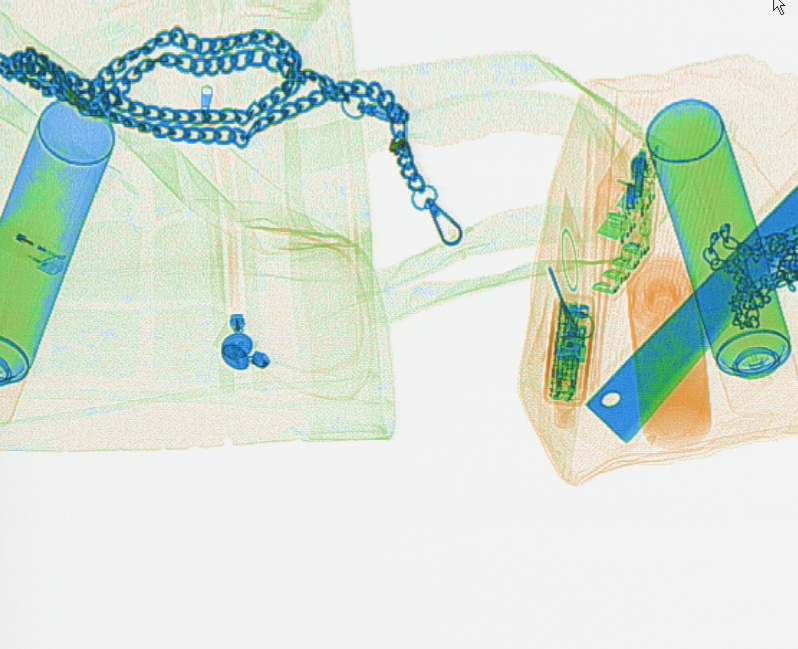knife: (576, 173, 796, 449)
lighter: (4, 216, 68, 282)
pressure: (639, 94, 796, 423), (3, 92, 121, 427)
